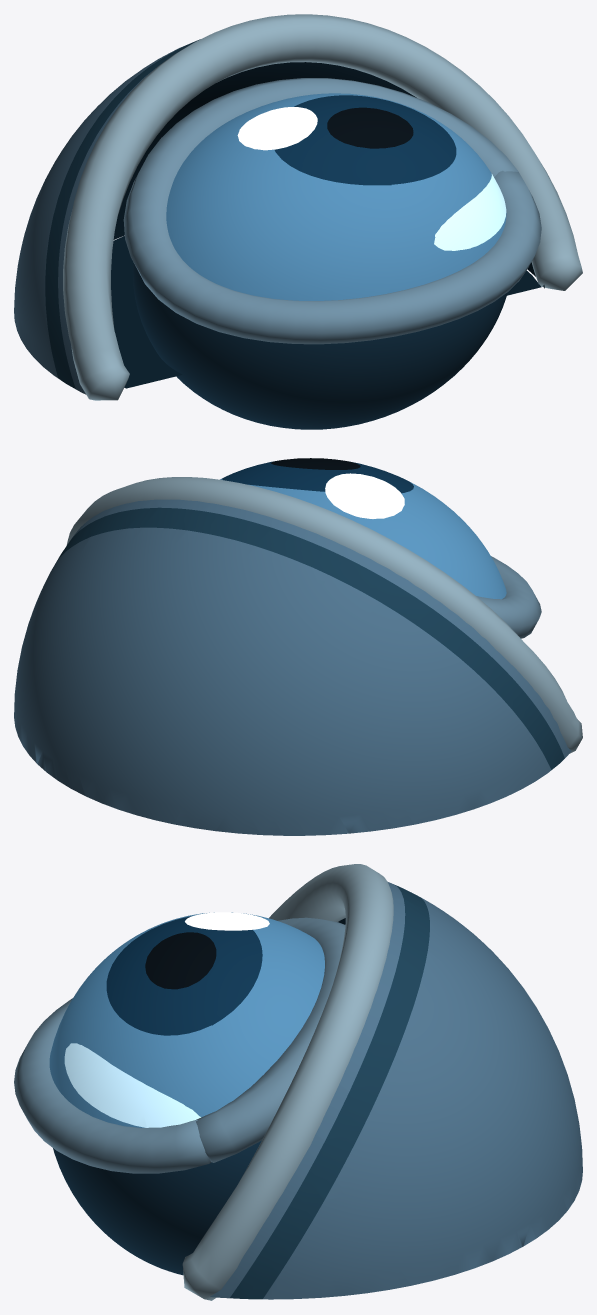
File: eye_shell_129.glb
3 views of the same model, one above another, from view 1: azimuth 30°, elevation 25°; view 2: azimuth 150°, elevation 25°; view 3: azimuth 270°, elevation 25° (orthographic). The views are drawn at different scales.
Parts seen in each view (by area): view 1: eye, lip, lids, hood, floor, hood_inner; view 2: hood, lip, eye, lids; view 3: hood, eye, lip, lids.
Part boxes in pixels (x1,y1,x2,y2): eye: (132, 93, 507, 429); lip: (63, 14, 582, 400); lids: (123, 78, 541, 344); hood: (14, 39, 200, 394); floor: (111, 236, 541, 388); hood_inner: (113, 62, 544, 288); hood: (14, 499, 571, 835); lip: (66, 477, 582, 753); eye: (220, 458, 506, 599); lids: (476, 556, 541, 638); hood: (210, 882, 582, 1299); eye: (49, 912, 324, 1275); lip: (182, 864, 393, 1300); lids: (14, 917, 345, 1173).
Bounding box in the file's own units: 14.78 × 9.63 × 13.76.
